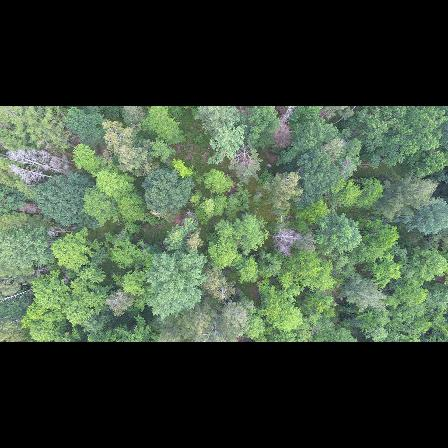Dead: (6, 152, 65, 174), (270, 214, 298, 259), (271, 109, 298, 147), (4, 163, 52, 182), (41, 150, 76, 166)
Sick: (230, 142, 254, 172)
